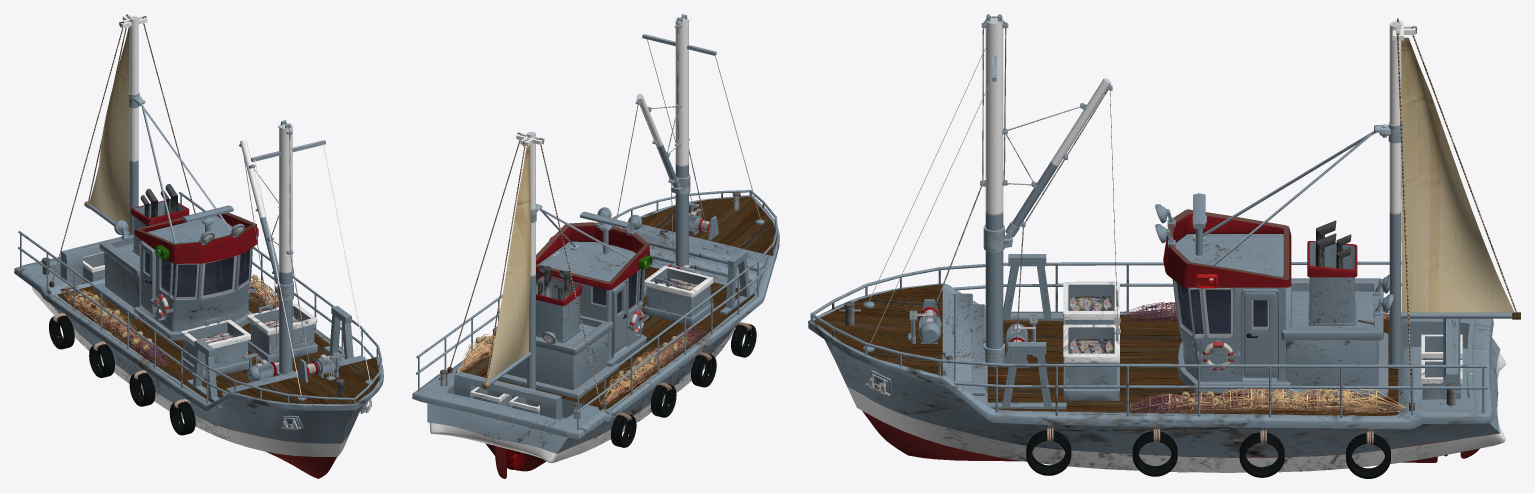
Rendered from fishing-boat-iv.glb.
3 renders of one model, left to right at view 1: azimuth 30°, elevation 25°; view 2: azimuth 150°, elevation 25°; view 3: azimuth 270°, elevation 25°, orthographic. The views are drawn at different scales.
Parts seen in each view (by area): view 1: Object_32, Object_70, Object_31, Object_10, Object_39, Object_11, Object_29, Object_15, Object_63, Object_68, Object_36, Object_33 (+22 smaller); view 2: Object_70, Object_32, Object_10, Object_31, Object_30, Object_39, Object_11, Object_29, Object_63, Object_33, Object_36, Object_68 (+22 smaller); view 3: Object_32, Object_70, Object_10, Object_11, Object_31, Object_29, Object_39, Object_63, Object_68, Object_30, Object_36, Object_15 (+17 smaller).
Part boxes in pixels (x1,y1,x2,y2): Object_32: [14, 262, 383, 443]; Object_70: [18, 191, 382, 428]; Object_31: [134, 215, 252, 340]; Object_10: [53, 286, 380, 405]; Object_39: [129, 16, 292, 374]; Object_11: [89, 26, 129, 232]; Object_29: [32, 252, 350, 456]; Object_15: [144, 249, 251, 299]; Object_63: [134, 212, 257, 263]; Object_68: [121, 223, 353, 408]; Object_36: [129, 92, 325, 375]; Object_33: [60, 236, 374, 400]; Object_70: [416, 189, 777, 430]; Object_32: [415, 195, 779, 454]; Object_10: [455, 196, 776, 410]; Object_31: [536, 241, 646, 366]; Object_30: [412, 202, 699, 453]; Object_39: [527, 17, 688, 389]; Object_11: [487, 145, 530, 381]; Object_29: [429, 266, 735, 462]; Object_63: [536, 222, 649, 290]; Object_33: [454, 206, 764, 420]; Object_36: [530, 14, 716, 268]; Object_68: [552, 207, 755, 343]; Object_32: [808, 283, 1499, 457]; Object_70: [810, 242, 1487, 417]; Object_10: [809, 284, 1398, 416]; Object_11: [1401, 37, 1514, 312]; Object_31: [1172, 234, 1290, 393]; Object_29: [847, 281, 1505, 472]; Object_39: [985, 17, 1401, 368]; Object_63: [1163, 209, 1291, 287]; Object_68: [907, 204, 1382, 409]; Object_30: [909, 310, 1500, 432]; Object_36: [980, 14, 1402, 366]; Object_15: [1176, 282, 1268, 336].
Size of the model in its own units: 3.9 by 6.92 by 10.02.
51 materials, 49 textured.
